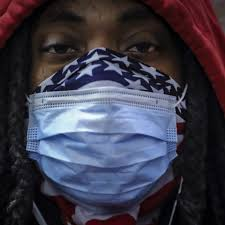with-mask: (26, 3, 190, 214)
